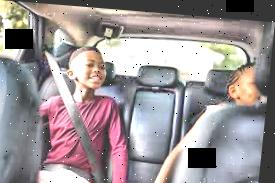seatbelt: (29, 43, 124, 183)
